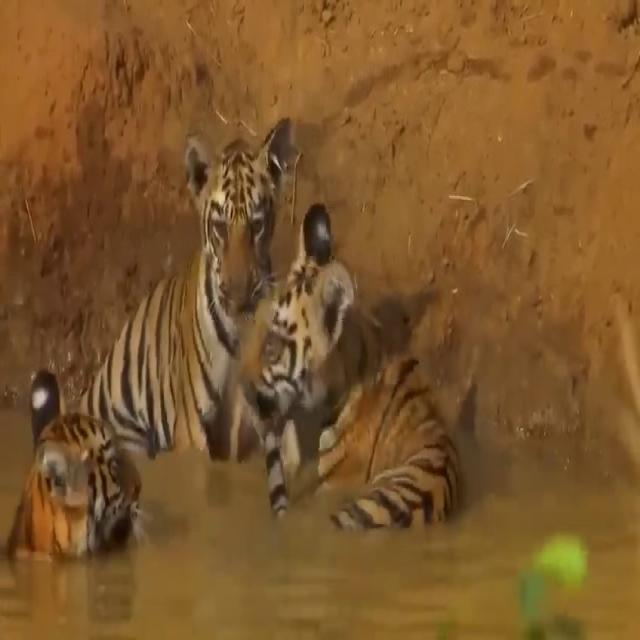tiger: (33, 113, 292, 462), (0, 408, 144, 553)
